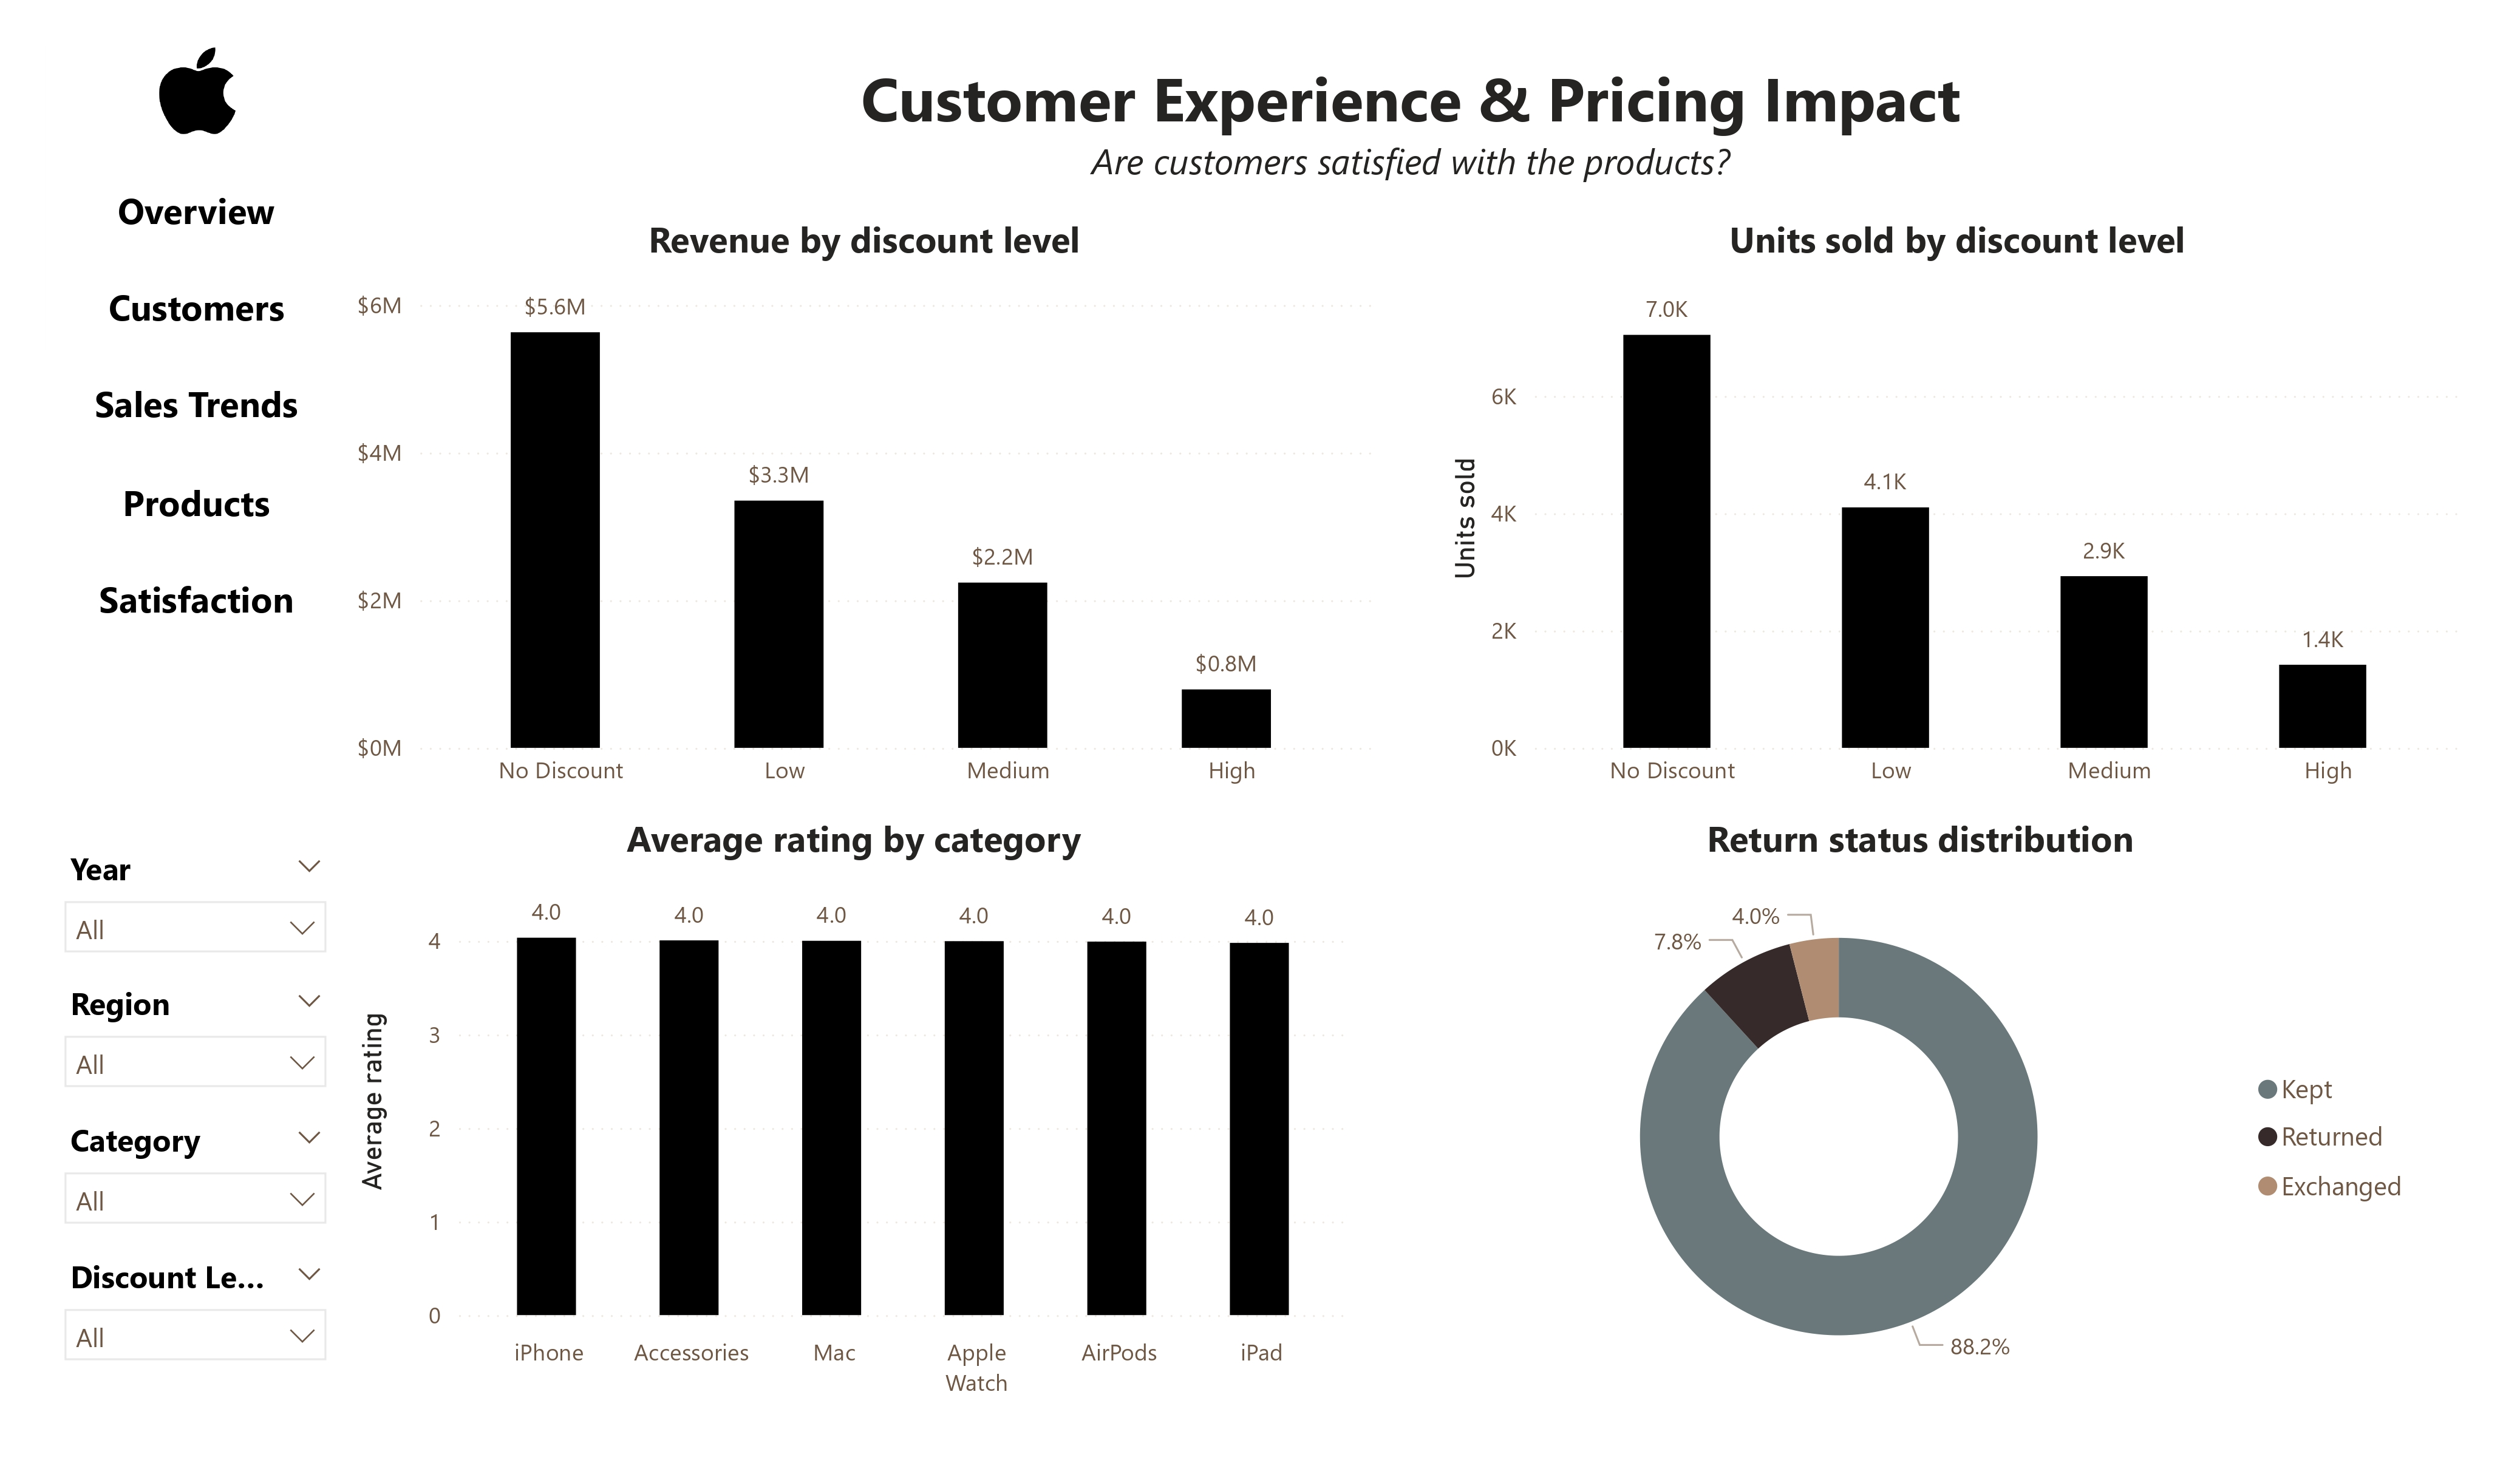

The dashboard page shown, as its layout file describes it:
{"tool":"powerbi","page":{"name":"Satisfaction","canvas":[1280,720],"ordinal":4},"visuals":[{"type":"textbox","box":[158.9,0,1121.5,86.8],"z":0},{"type":"slicer","fields":{"Values":["public sales.year"]},"box":[0,417.9,158.5,70.8],"z":1000},{"type":"image","box":[40.6,0,77.8,51.8],"z":2000},{"type":"slicer","fields":{"Values":["public customers.region"]},"box":[0,488.7,158.5,72],"z":3000},{"type":"slicer","fields":{"Values":["public products.category"]},"box":[0,560.8,158.5,72],"z":4000},{"type":"slicer","fields":{"Values":["public sales.discount_level"]},"box":[0,632.8,158.5,72],"z":5000},{"type":"actionButton","box":[0,60.9,158.9,51.8],"z":6000},{"type":"actionButton","box":[0,112.7,158.9,50.7],"z":7000},{"type":"actionButton","box":[0,163.4,158.9,51.8],"z":8000},{"type":"actionButton","box":[0,215.3,158.9,50.7],"z":9000},{"type":"actionButton","box":[0,266,158.9,51.8],"z":10000},{"type":"columnChart","fields":{"Category":["Sales.discount_level"],"Y":["Sum(Sales.revenue_usd)"]},"box":[159,89.3,545.4,310.6],"z":12000},{"type":"donutChart","title":"Return status distribution","fields":{"Category":["Sales.return_status"],"Y":["CountNonNull(Sales.product_id)"]},"box":[720.2,404.8,535.6,315.5],"z":13000},{"type":"columnChart","fields":{"Y":["Avg(Sales.customer_rating)"],"Category":["Products.category"]},"box":[159,404.8,534.4,315.5],"z":14000},{"type":"columnChart","fields":{"Category":["Sales.discount_level"],"Y":["Sum(Sales.units_sold)"]},"box":[734.9,89.3,545.4,310.6],"z":15000}]}

Visuals, with their boxes on the page's 1280x720 design canvas (x1, y1, x2, y2). These are canvas units, not pixel positions in the 2520x1457 screenshot, which may show the page scaled, cropped or inside an application window:
textbox: (159,0,1280,87)
slicer - public sales.year: (0,418,158,489)
image: (41,0,118,52)
slicer - public customers.region: (0,489,158,561)
slicer - public products.category: (0,561,158,633)
slicer - public sales.discount_level: (0,633,158,705)
actionButton: (0,61,159,113)
actionButton: (0,113,159,163)
actionButton: (0,163,159,215)
actionButton: (0,215,159,266)
actionButton: (0,266,159,318)
columnChart - Sales.discount_level x Sum(Sales.revenue_usd): (159,89,704,400)
"Return status distribution" donutChart: (720,405,1256,720)
columnChart - Avg(Sales.customer_rating) x Products.category: (159,405,693,720)
columnChart - Sales.discount_level x Sum(Sales.units_sold): (735,89,1280,400)
